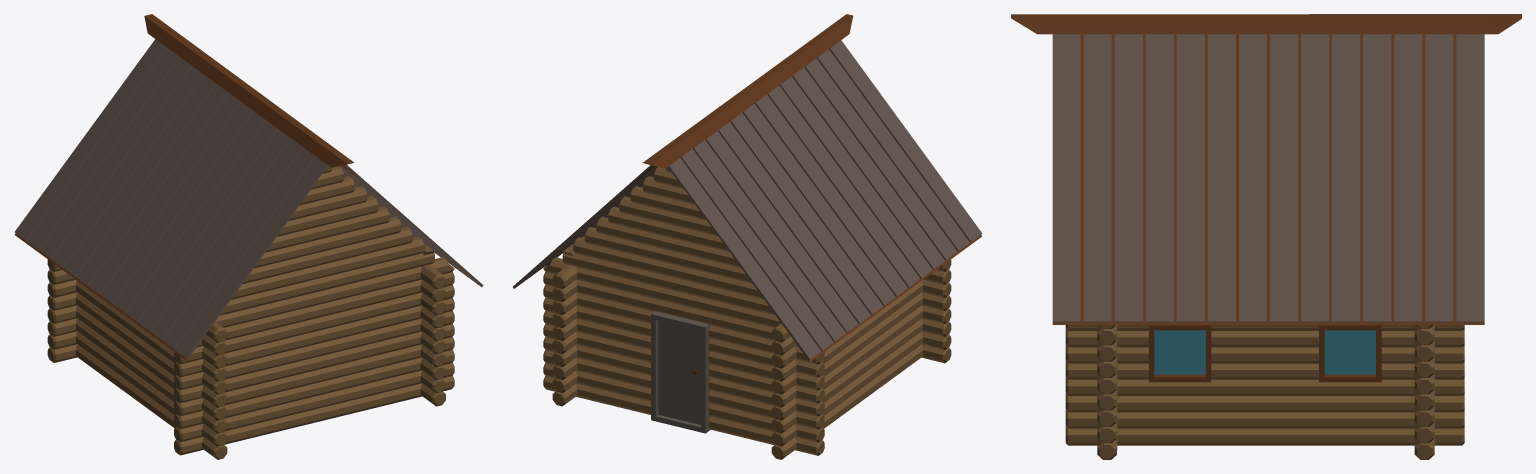
File: House(3).fbx
3 views of the same model, side by side, from view 1: azimuth 30°, elevation 25°; view 2: azimuth 150°, elevation 25°; view 3: azimuth 270°, elevation 25° (orthographic). The views are drawn at different scales.
Parts seen in each view (by area): view 1: Plane.019; view 2: Plane.019; view 3: Plane.019.
Boxes of the visible parts, x1,y1,x2,y2 form: Plane.019: (14,14,483,459); Plane.019: (513,14,982,459); Plane.019: (1011,14,1521,459).
Bounding box in the file's own units: 635 × 584 × 751.
